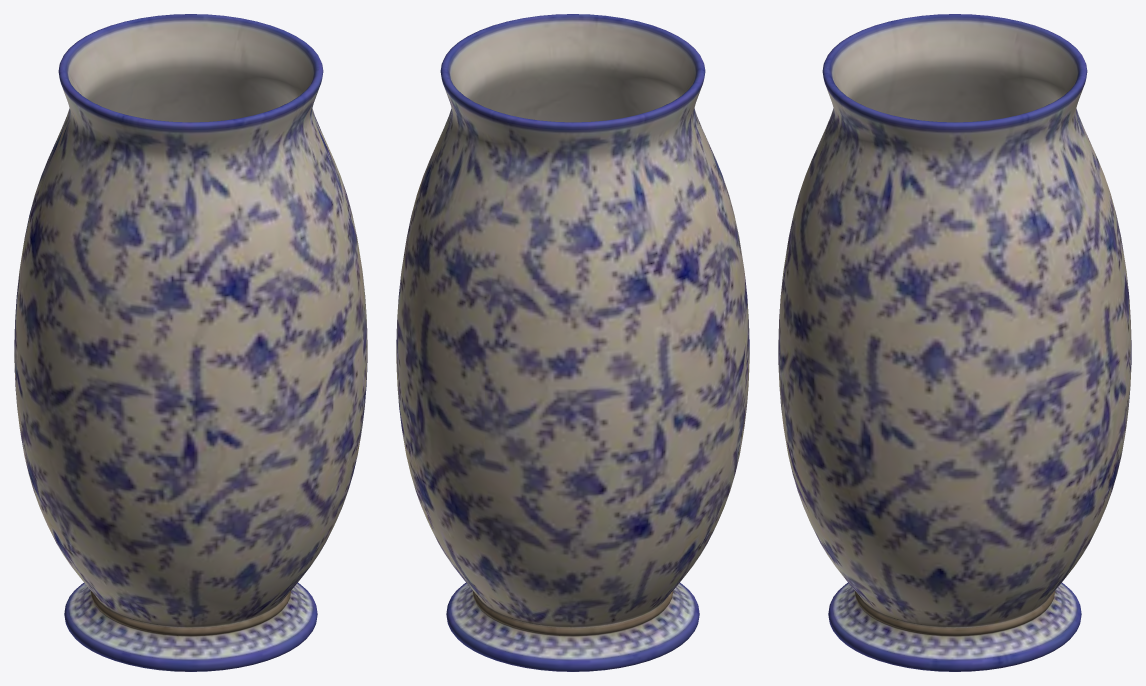
Rendered from antique_ceramic_vase_01.glb.
The picture shows the model from 3 angles, left to right: view 1: azimuth 30°, elevation 25°; view 2: azimuth 150°, elevation 25°; view 3: azimuth 270°, elevation 25°; orthographic projection.
Visible parts, largest first — view 1: antique_ceramic_vase_01; view 2: antique_ceramic_vase_01; view 3: antique_ceramic_vase_01.
Part boxes in pixels (left/top/right/bottom): antique_ceramic_vase_01: left=14, top=14, right=367, bottom=671; antique_ceramic_vase_01: left=396, top=14, right=749, bottom=671; antique_ceramic_vase_01: left=778, top=14, right=1131, bottom=671.
Bounding box in the file's own units: 0.255 × 0.4396 × 0.255.
Materials: 1 (1 with a texture image).
